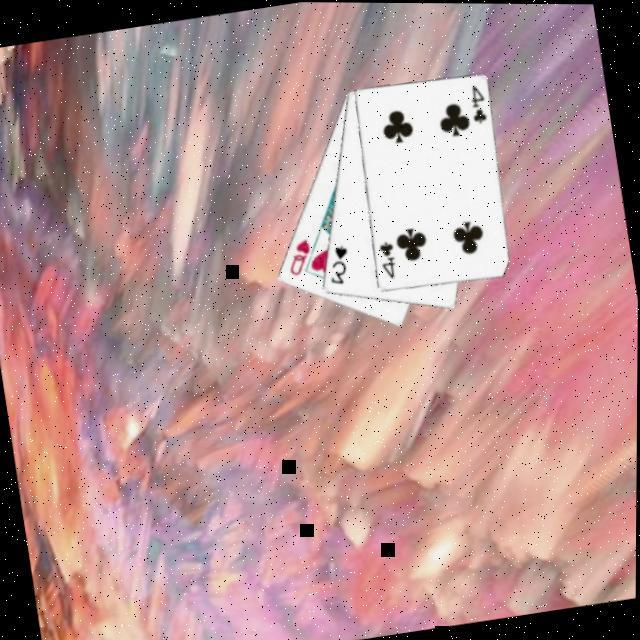3S: (323, 242, 358, 290)
4C: (466, 80, 494, 128), (377, 238, 403, 284)
QH: (284, 236, 320, 280)
